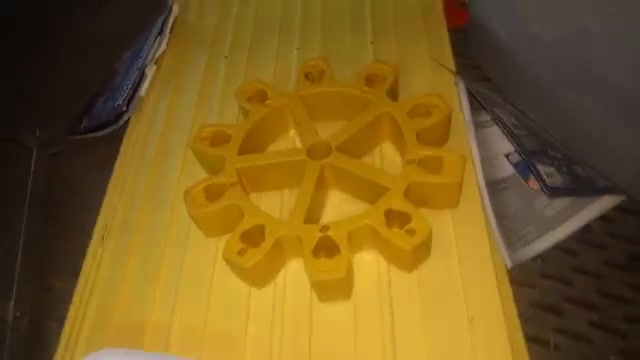gear: (178, 58, 471, 321)
